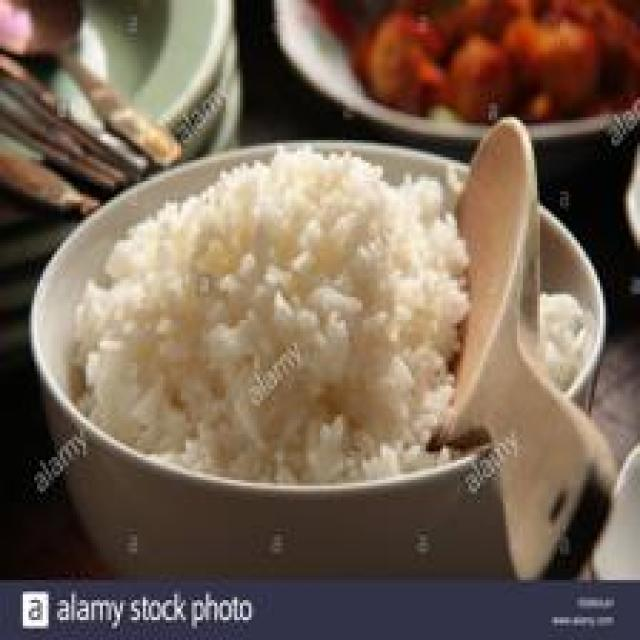Wet Waste: (74, 139, 586, 498)
